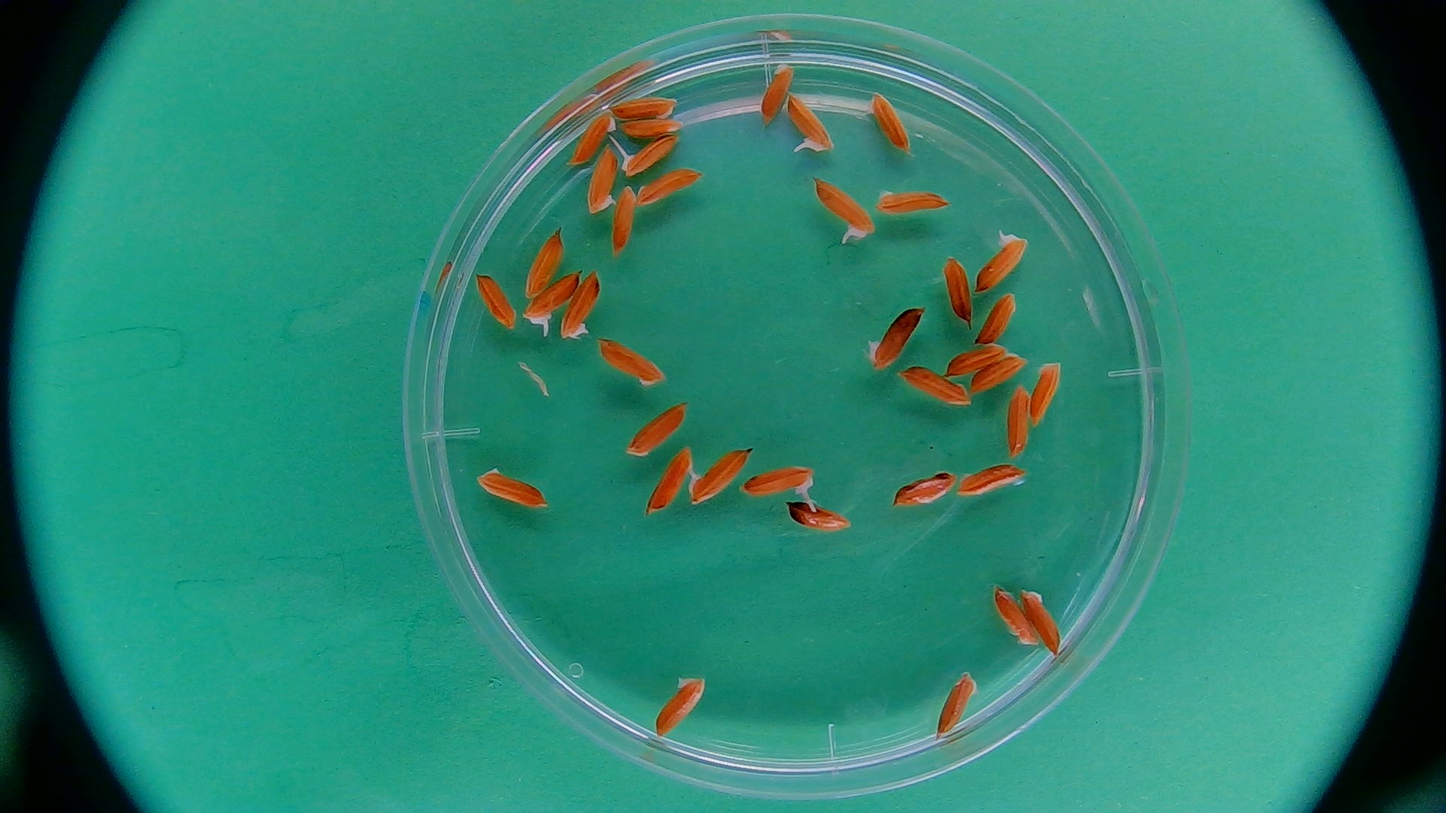no: (1008, 578, 1072, 656), (677, 452, 765, 508), (981, 586, 1045, 660), (468, 461, 555, 508), (902, 364, 978, 416), (862, 89, 920, 155), (868, 306, 929, 367), (465, 269, 520, 336), (642, 444, 693, 516), (652, 673, 710, 736), (950, 464, 1034, 507), (870, 176, 953, 219), (599, 332, 663, 385), (938, 253, 981, 331), (558, 277, 607, 345), (625, 400, 685, 455), (890, 467, 960, 514), (523, 223, 566, 298), (784, 495, 853, 539), (935, 672, 980, 738), (758, 57, 798, 128), (1027, 360, 1069, 426), (602, 93, 686, 126), (573, 104, 615, 169), (973, 297, 1024, 349), (586, 144, 621, 219), (616, 114, 697, 146), (639, 171, 708, 206), (948, 341, 1014, 377), (966, 352, 1029, 388), (611, 181, 638, 260), (1005, 388, 1034, 456)
yes: (816, 174, 872, 242), (973, 233, 1028, 294), (526, 268, 578, 324), (785, 96, 834, 155), (741, 470, 816, 500), (623, 133, 679, 173)
